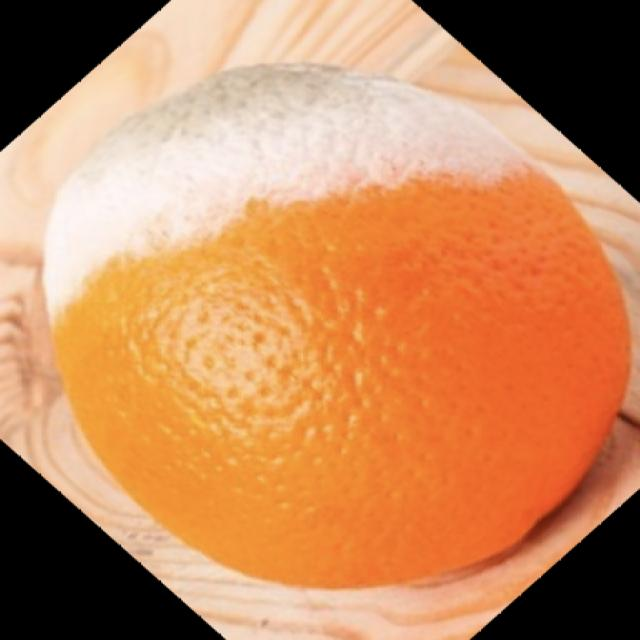sedikit_busuk: (42, 62, 627, 593)
